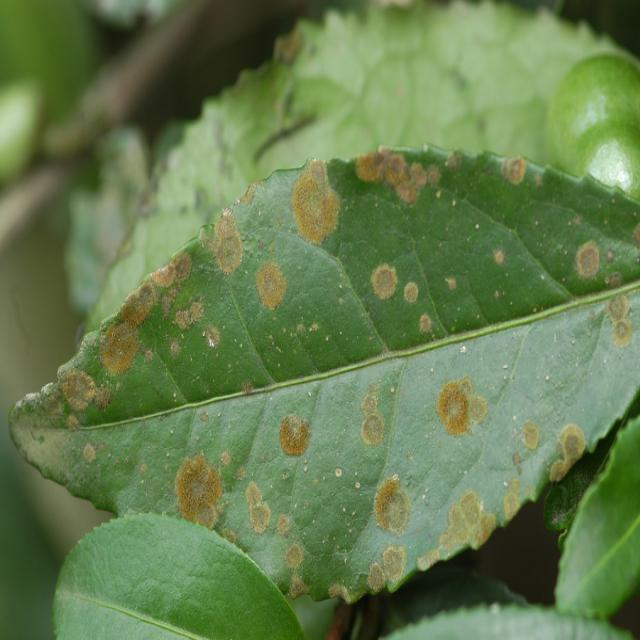Tea algae leaf spot: (102, 141, 595, 540)
